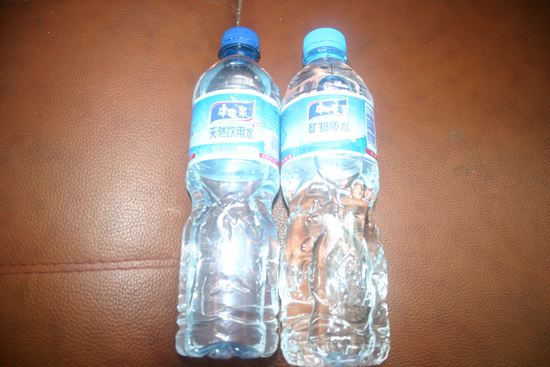amwater: (275, 25, 401, 364), (181, 22, 282, 363)
